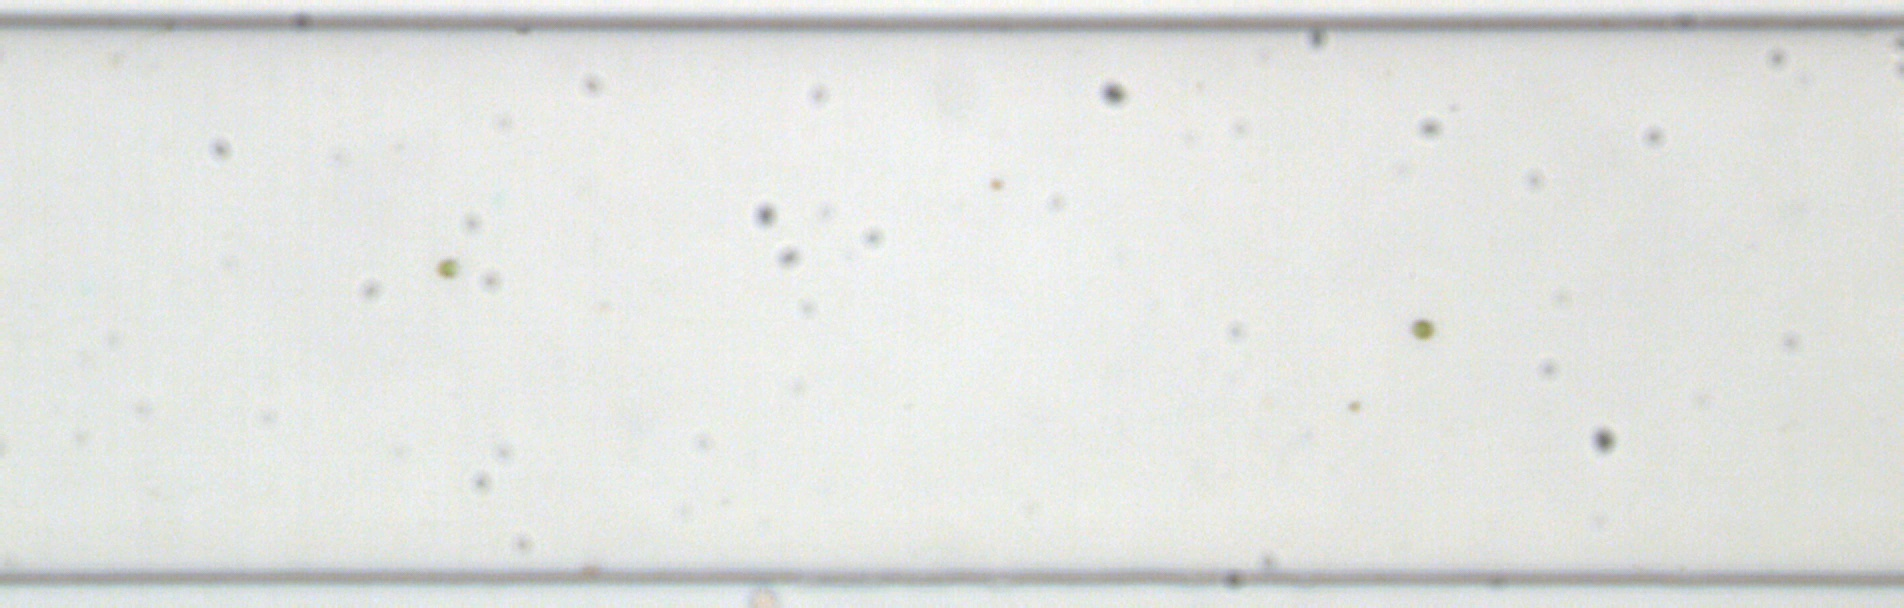Chlorella: (433, 256, 463, 283), (1409, 317, 1430, 340), (986, 175, 1004, 192), (1343, 397, 1358, 411)
